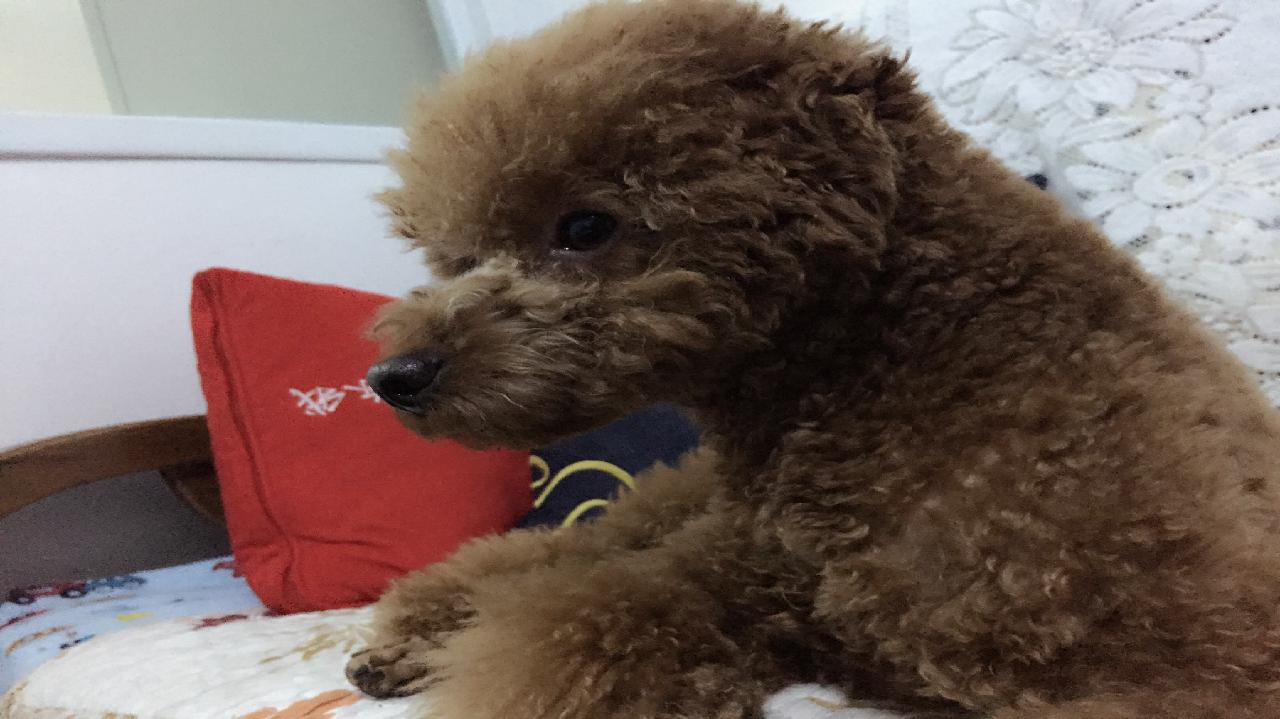zhuangzhuang: (395, 1, 1261, 719)
